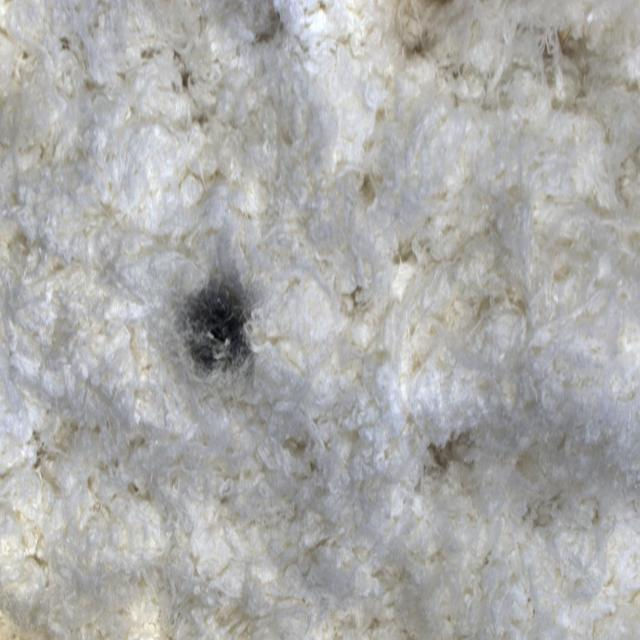dust: (147, 203, 306, 455)
